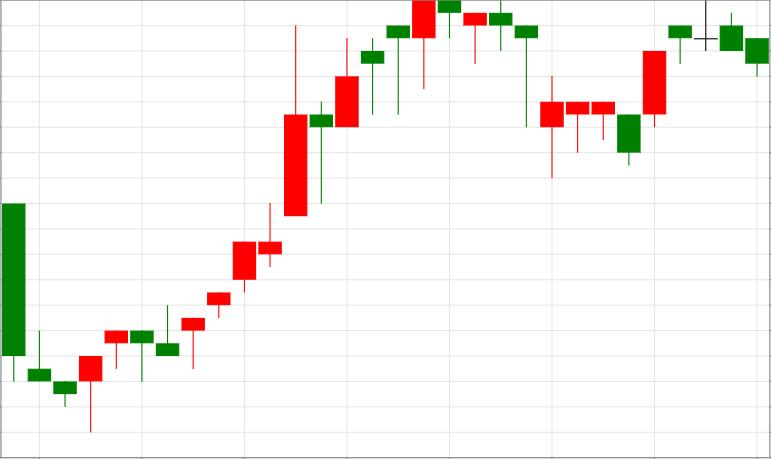hanging_man_fall: (182, 1, 435, 368)
